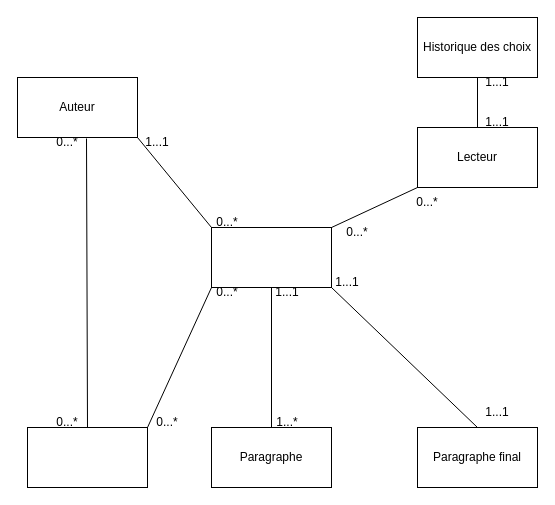
This 555x505 diagram has some shape labels left out. Each missing label, with the box of its shape:
Contributeur: (26, 426, 148, 488)
Histoire: (210, 226, 332, 288)
